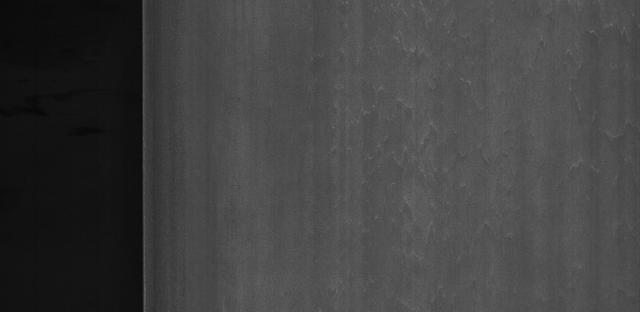silk_spot: (346, 8, 526, 269)
